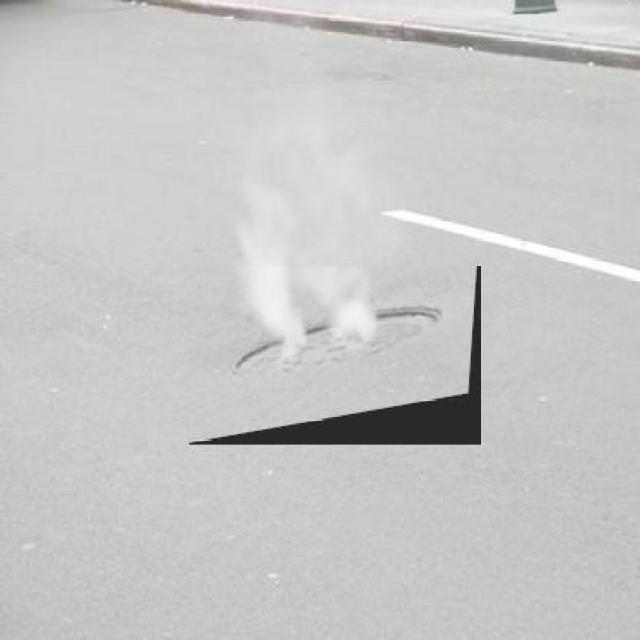Manhole: (189, 266, 480, 445)
